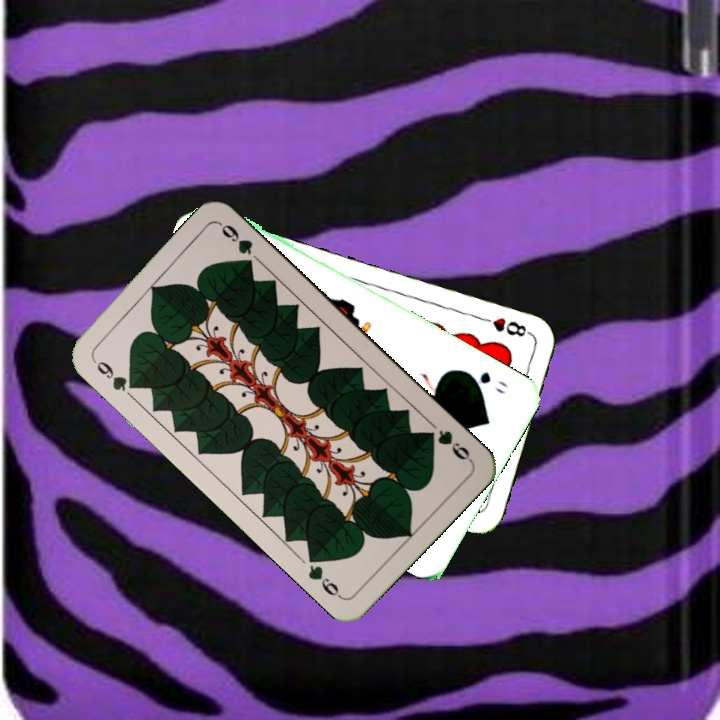G9: (421, 425, 475, 464), (88, 355, 141, 394)
GO: (460, 367, 510, 397)
H8: (475, 313, 533, 340)
